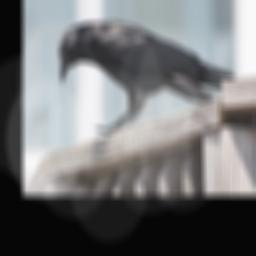Crow: (58, 20, 237, 134)
